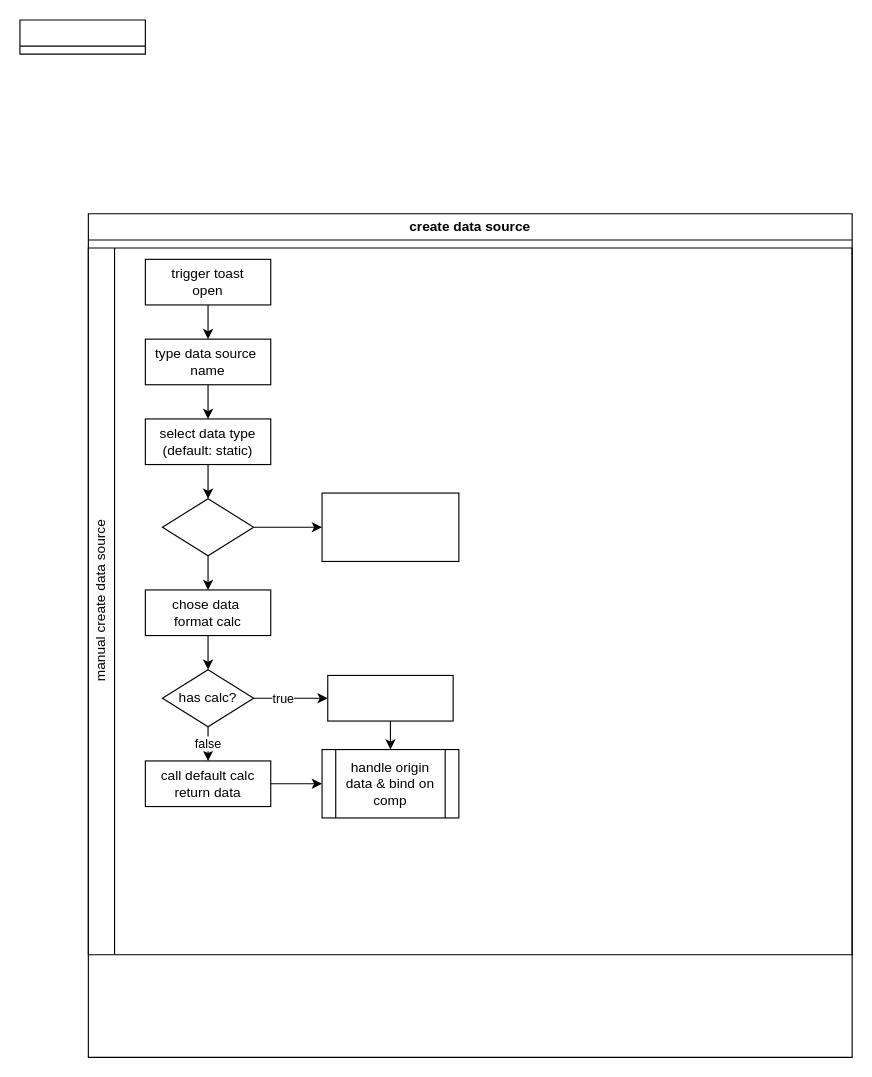
Image size: 872x1077. Some labels were removed from this diagram. The box of each missing label's shape, as (x1, y1, x2, y2) in pixels:
call calc link return calced data: (327, 674, 453, 721)
is static: (161, 498, 254, 556)
old data load: (19, 19, 145, 54)
user type data as template or upload .CSV file: (321, 492, 459, 561)
